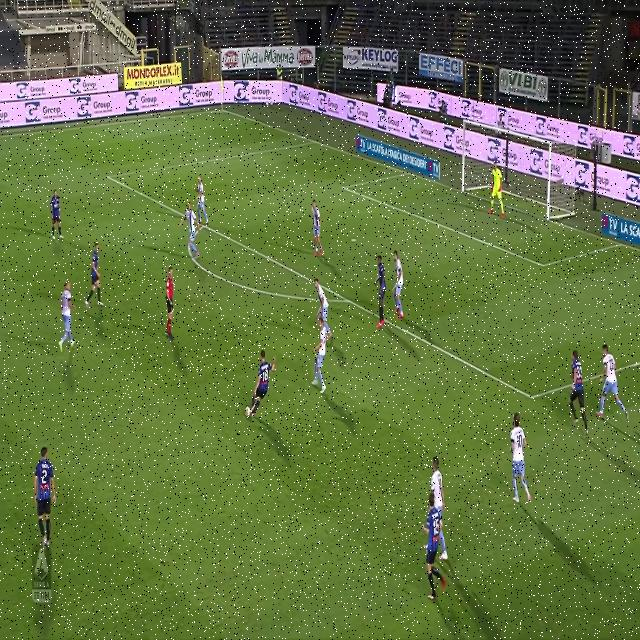Ball: (244, 403, 252, 418)
GoalKeeper: (487, 151, 507, 216)
TEAM 1: (594, 332, 629, 428), (429, 452, 459, 562), (505, 404, 537, 505), (310, 316, 330, 394), (181, 196, 202, 268), (309, 272, 332, 336), (58, 276, 77, 352), (391, 244, 407, 324), (194, 172, 212, 231), (309, 196, 325, 256)
TEAM 2: (422, 490, 448, 601), (566, 344, 589, 441), (35, 448, 56, 544), (251, 348, 276, 418), (87, 238, 106, 308), (47, 189, 67, 242), (376, 251, 388, 327)
